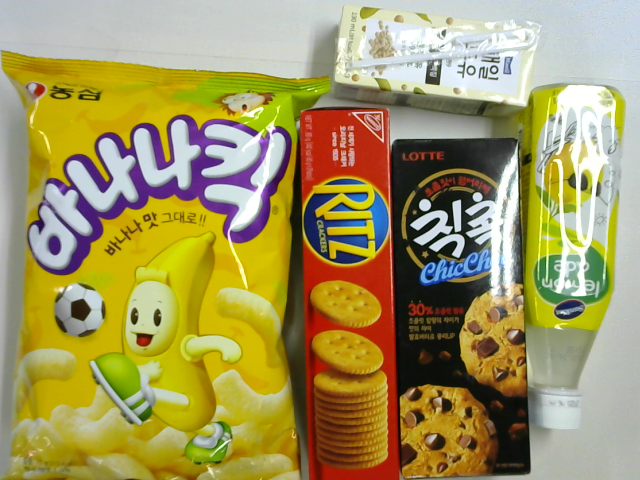99.89_Soymilk: (332, 6, 542, 115)
Banana_Kick: (1, 52, 333, 479)
Chicchok_Original_2400: (400, 137, 533, 480)
Ritz_Cracker: (297, 107, 401, 480)
Sunkist_Lemonaid_Pet: (515, 83, 627, 431)
